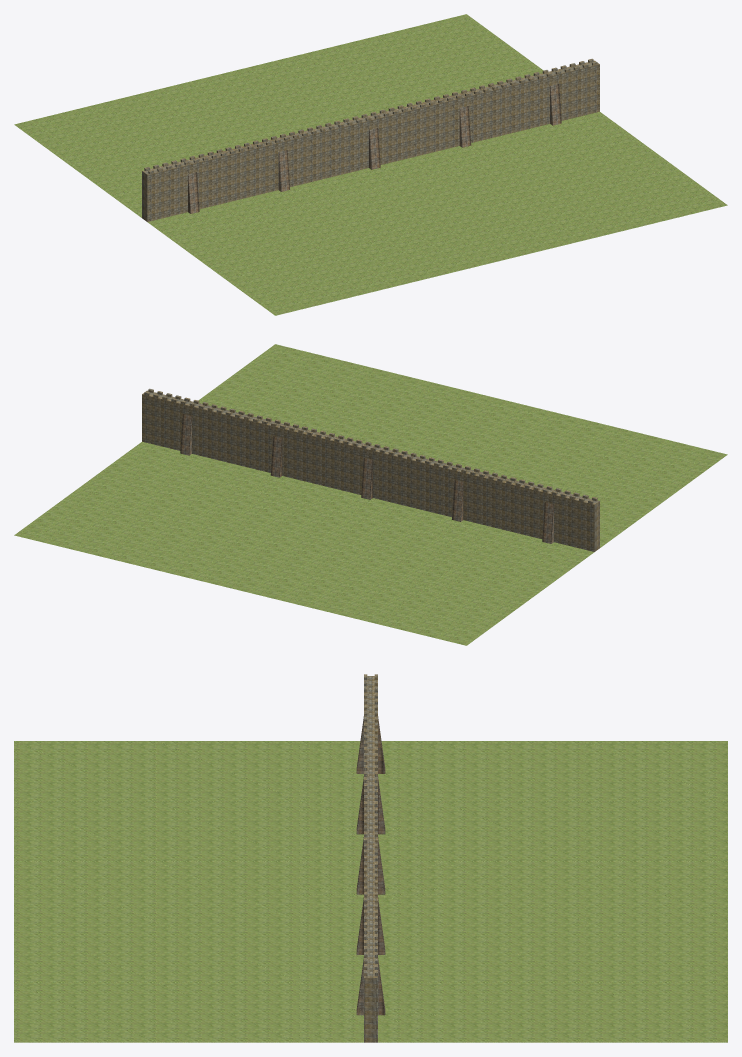
The model's file is map50GBEW.fbx.
The picture shows the model from 3 angles, top to bottom: view 1: azimuth 30°, elevation 25°; view 2: azimuth 150°, elevation 25°; view 3: azimuth 270°, elevation 25°; orthographic projection. The views are drawn at different scales.
Parts seen in each view (by area): view 1: map50GBEW:Layer1, map50GBEW:Layer2, map50GBEW:Layer3, map50GBEW:Layer5; view 2: map50GBEW:Layer1, map50GBEW:Layer2, map50GBEW:Layer3, map50GBEW:Layer5; view 3: map50GBEW:Layer1, map50GBEW:Layer2, map50GBEW:Layer5, map50GBEW:Layer3.
Boxes of the visible parts, x1=… form: map50GBEW:Layer1: x1=14, y1=14, x2=727, y2=315; map50GBEW:Layer2: x1=142, y1=60, x2=599, y2=221; map50GBEW:Layer3: x1=144, y1=58, x2=597, y2=173; map50GBEW:Layer5: x1=188, y1=84, x2=561, y2=213; map50GBEW:Layer1: x1=14, y1=344, x2=727, y2=645; map50GBEW:Layer2: x1=142, y1=390, x2=599, y2=551; map50GBEW:Layer3: x1=144, y1=388, x2=597, y2=503; map50GBEW:Layer5: x1=180, y1=414, x2=553, y2=543; map50GBEW:Layer1: x1=14, y1=741, x2=727, y2=1042; map50GBEW:Layer2: x1=364, y1=676, x2=377, y2=1042; map50GBEW:Layer5: x1=356, y1=716, x2=385, y2=1015; map50GBEW:Layer3: x1=364, y1=674, x2=377, y2=976.
Size of the model in its own units: 1 by 0.105 by 1.
Materials: 3 (3 with a texture image).
